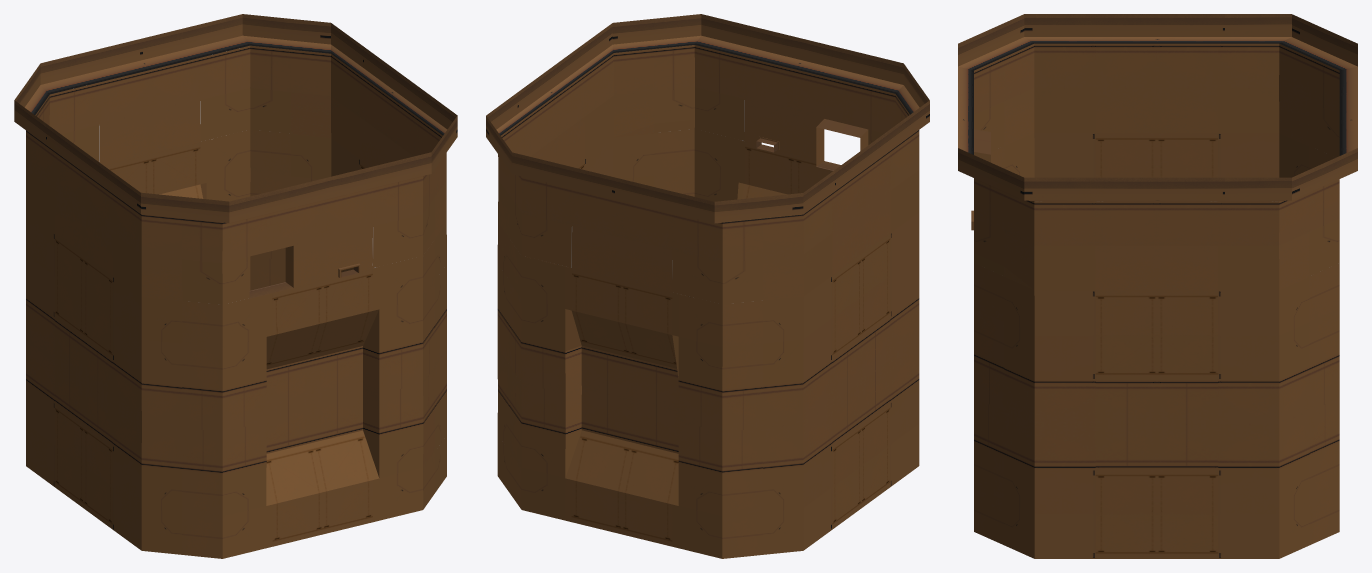
Rendered from WallExteriorClub2.fbx.
3 views of the same model, side by side, from view 1: azimuth 30°, elevation 25°; view 2: azimuth 150°, elevation 25°; view 3: azimuth 270°, elevation 25° (orthographic). The views are drawn at different scales.
Visible parts, largest first — view 1: WallExteriorClub2; view 2: WallExteriorClub2; view 3: WallExteriorClub2.
Boxes of the visible parts, x1=… form: WallExteriorClub2: x1=14, y1=14, x2=457, y2=558; WallExteriorClub2: x1=486, y1=14, x2=929, y2=558; WallExteriorClub2: x1=958, y1=14, x2=1357, y2=558.
Size of the model in its own units: 1869 by 2046 by 1929.
